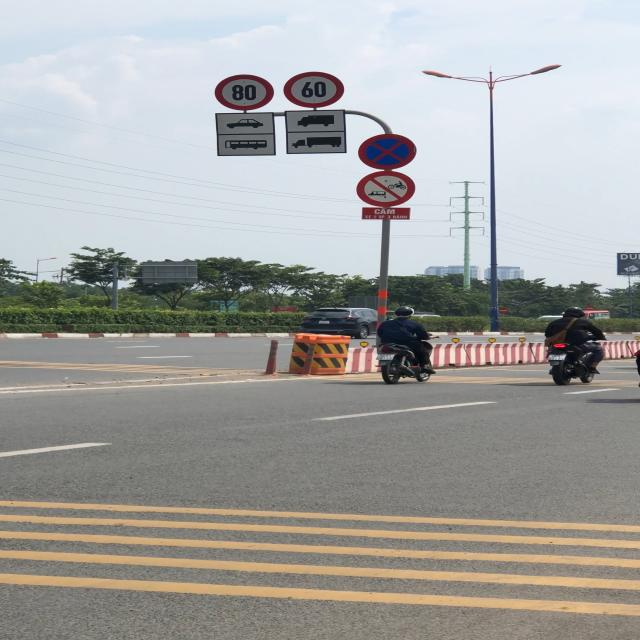Bien bao cam dung xe va do xe: (355, 132, 420, 172)
Bien bao toc do toi da cho phep: (284, 70, 347, 110), (213, 74, 276, 112)
